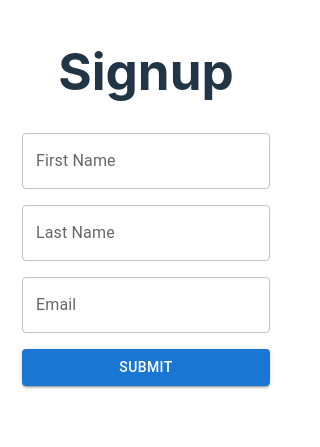
Test: signup › should return error message
Click the button with test id "submit-button".
click(146, 368)  # box [22,349,270,386]
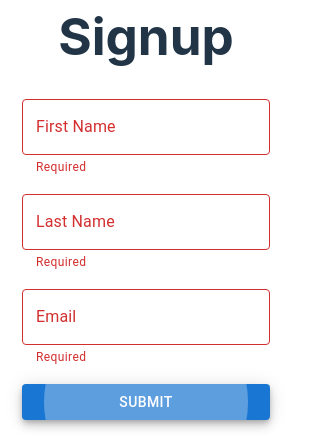
Result: the text with id "firstName-helper-text" is shown at [36,160,86,174]
Result: the text with id "lastName-helper-text" is shown at [36,255,86,269]
Result: the text with id "email-helper-text" is shown at [36,350,86,364]
